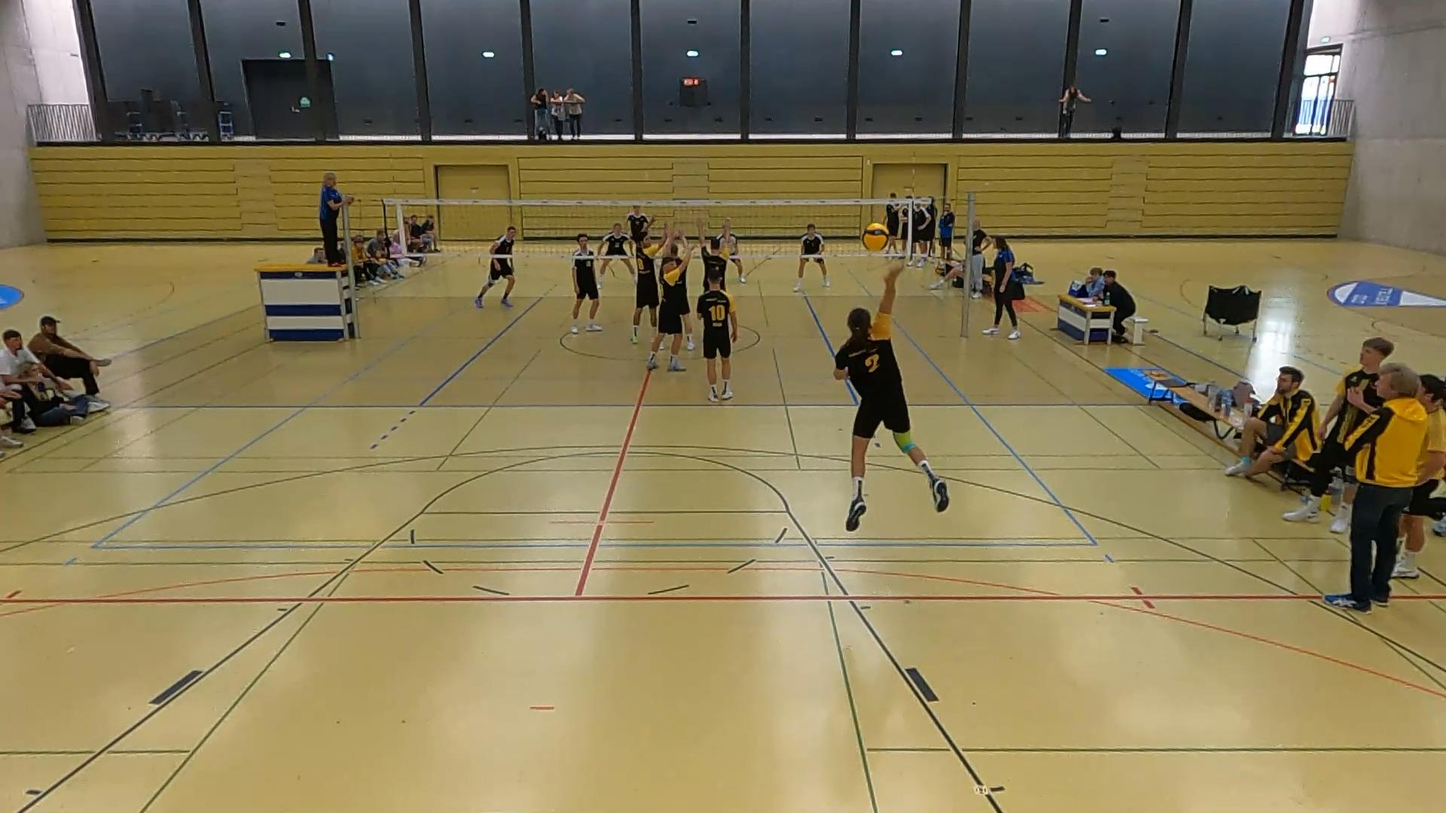battuta: (830, 261, 951, 537)
